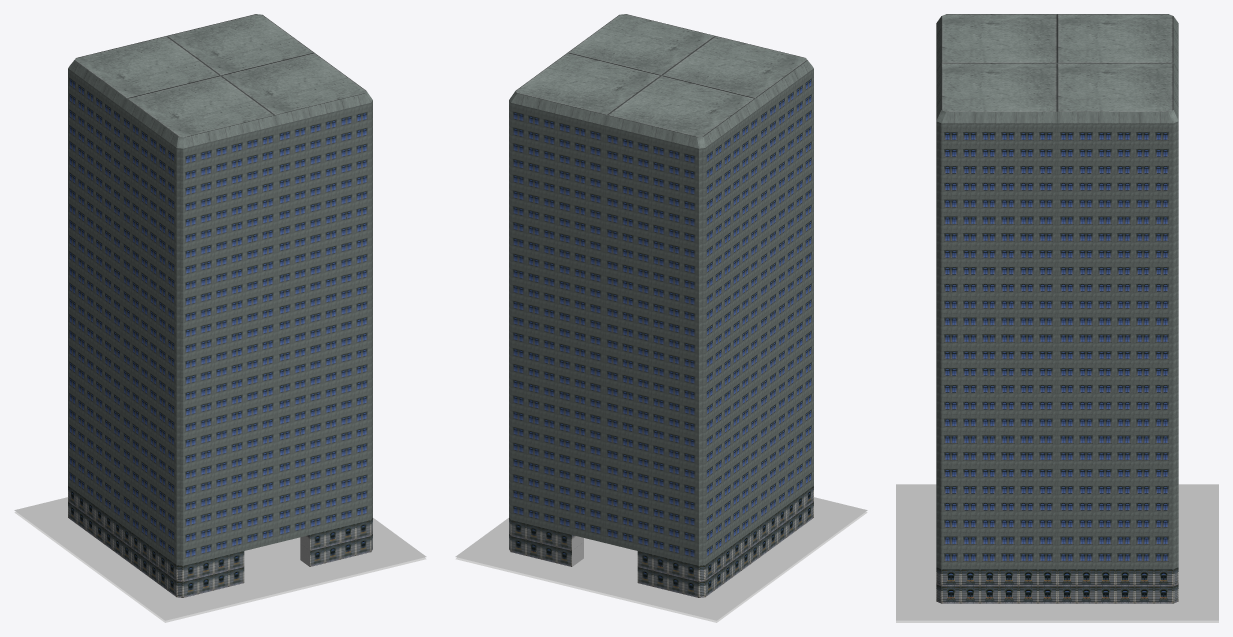
File: bldg01.FBX
3 views of the same model, side by side, from view 1: azimuth 30°, elevation 25°; view 2: azimuth 150°, elevation 25°; view 3: azimuth 270°, elevation 25° (orthographic). The views are drawn at different scales.
Visible parts, largest first — view 1: bldg01, daroof, obj6, grid001, terrain__h; view 2: bldg01, daroof, obj6, grid001, terrain__h; view 3: bldg01, daroof, obj6, grid001, terrain__h.
Part boxes in pixels (x1=…): bldg01: x1=68, y1=68, x2=372, y2=565; daroof: x1=68, y1=14, x2=372, y2=148; obj6: x1=14, y1=497, x2=426, y2=620; grid001: x1=68, y1=486, x2=372, y2=597; terrain__h: x1=14, y1=512, x2=426, y2=622; bldg01: x1=509, y1=68, x2=813, y2=565; daroof: x1=509, y1=14, x2=813, y2=148; obj6: x1=455, y1=497, x2=867, y2=620; grid001: x1=509, y1=486, x2=813, y2=597; terrain__h: x1=455, y1=512, x2=867, y2=622; bldg01: x1=936, y1=121, x2=1178, y2=569; daroof: x1=936, y1=14, x2=1178, y2=123; obj6: x1=896, y1=484, x2=1218, y2=620; grid001: x1=936, y1=567, x2=1178, y2=603; terrain__h: x1=896, y1=620, x2=1218, y2=622.
Size of what is drawn, in the model's own units: 64 by 64 by 108.
